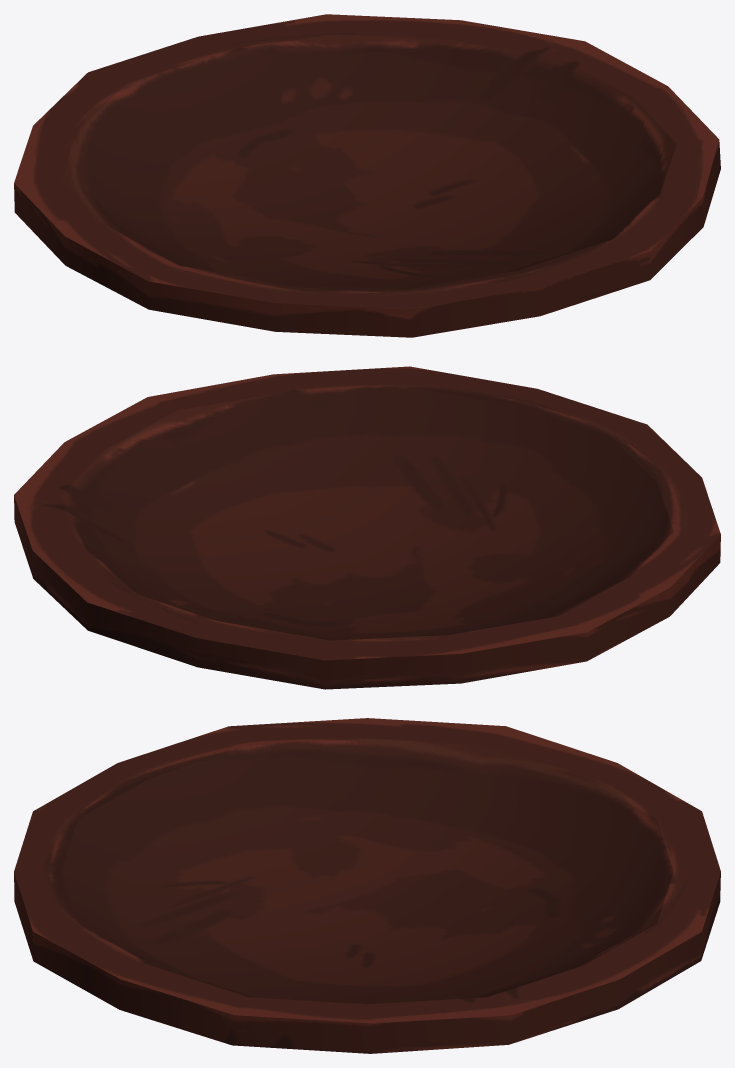
The model's file is SM_PROP_plate_dungeon_09.fbx.
3 views of the same model, one above another, from view 1: azimuth 30°, elevation 25°; view 2: azimuth 150°, elevation 25°; view 3: azimuth 270°, elevation 25° (orthographic). The views are drawn at different scales.
Visible parts, largest first — view 1: SM_PROP_plate_dungeon_09; view 2: SM_PROP_plate_dungeon_09; view 3: SM_PROP_plate_dungeon_09.
Boxes of the visible parts, x1=… form: SM_PROP_plate_dungeon_09: x1=14, y1=14, x2=720, y2=337; SM_PROP_plate_dungeon_09: x1=14, y1=366, x2=720, y2=689; SM_PROP_plate_dungeon_09: x1=14, y1=718, x2=720, y2=1053.
Bounding box in the file's own units: 31.54 × 3.99 × 30.81.
